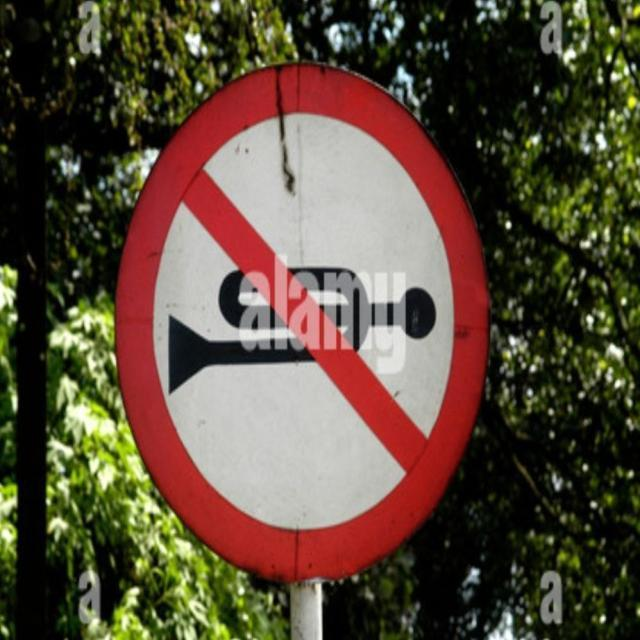horn prohibited: (110, 56, 485, 572)
